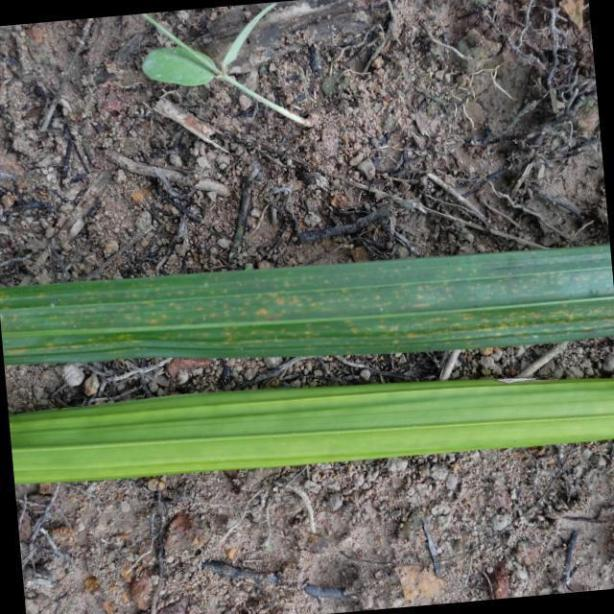nitrogen: (0, 242, 614, 364), (0, 368, 614, 483)
